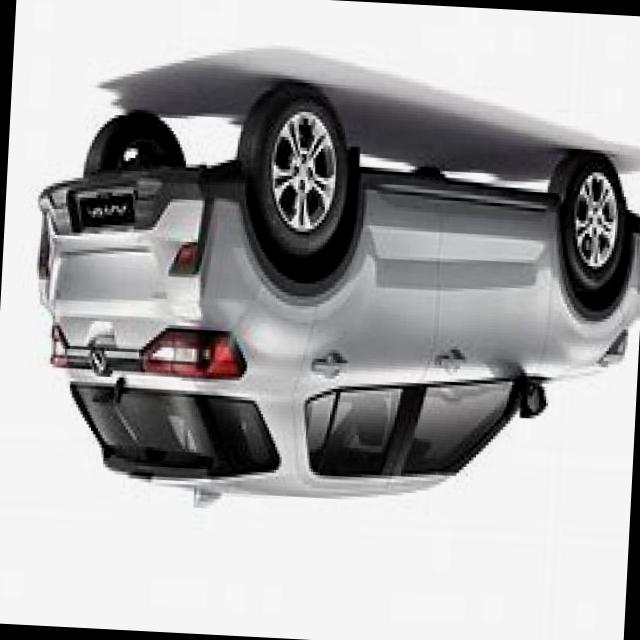PeroduaAtiva: (20, 69, 640, 533)
